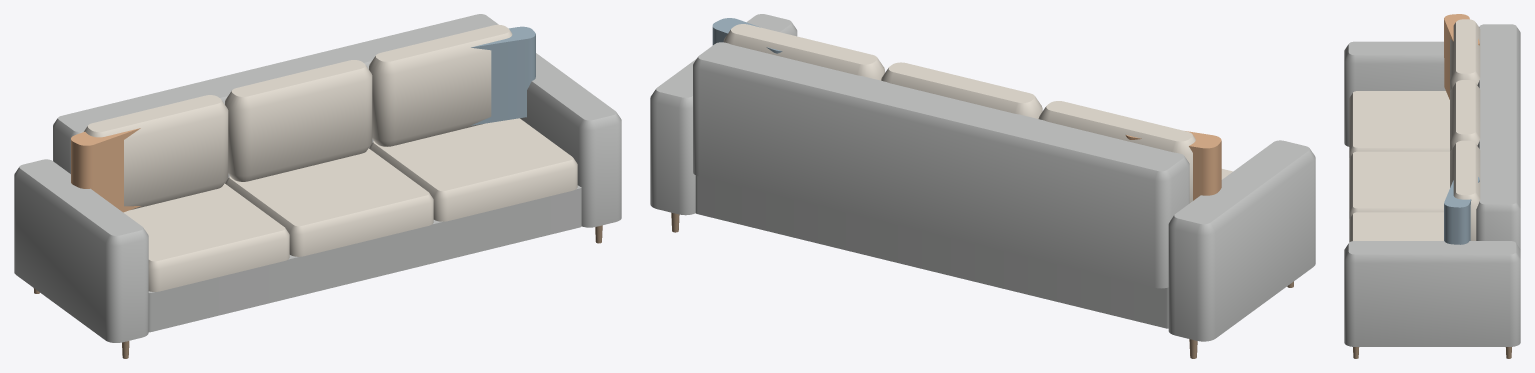
3 renders of one model, left to right at view 1: azimuth 30°, elevation 25°; view 2: azimuth 150°, elevation 25°; view 3: azimuth 270°, elevation 25°, orthographic. The views are drawn at different scales.
Visible parts, largest first — view 1: Sofa văng Chiều dài=2600; view 2: Sofa văng Chiều dài=2600; view 3: Sofa văng Chiều dài=2600.
Part boxes in pixels (x1,y1,x2,y2): Sofa văng Chiều dài=2600: (14,14,621,358); Sofa văng Chiều dài=2600: (650,14,1315,358); Sofa văng Chiều dài=2600: (1344,14,1520,358).
Bounding box in the file's own units: 2.62 × 0.85 × 0.9.
